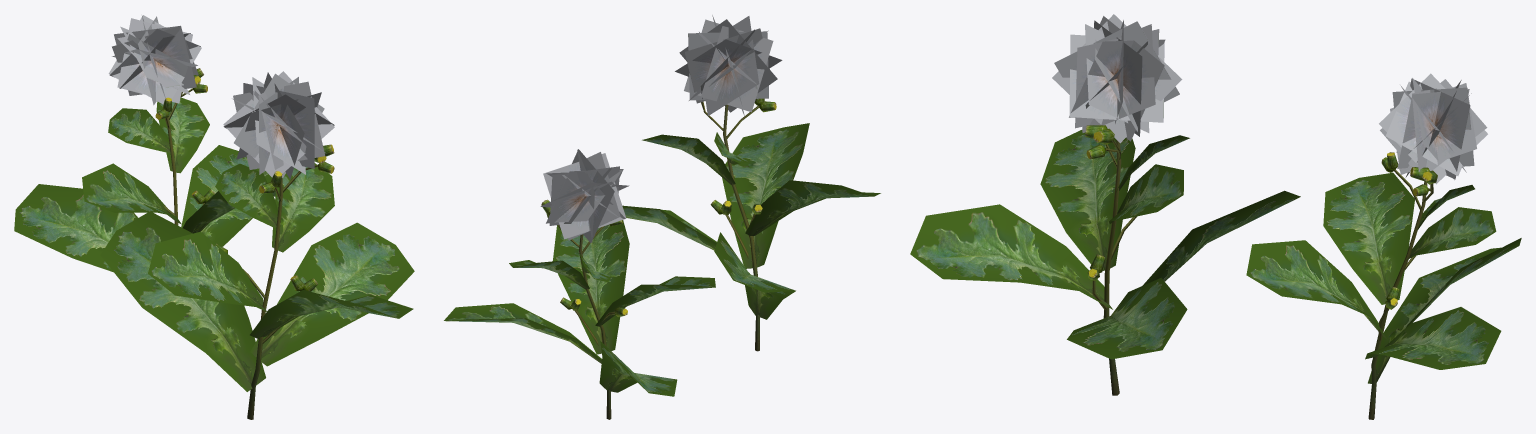
File: Groundsel.FBX
3 views of the same model, side by side, from view 1: azimuth 30°, elevation 25°; view 2: azimuth 150°, elevation 25°; view 3: azimuth 270°, elevation 25° (orthographic). The views are drawn at different scales.
Visible parts, largest first — view 1: Groundsel_0, Groundsel_1; view 2: Groundsel_0, Groundsel_1; view 3: Groundsel_0, Groundsel_1.
Part boxes in pixels (bbox=[...]): Groundsel_0: bbox=[100, 71, 414, 419]; Groundsel_1: bbox=[14, 15, 275, 272]; Groundsel_0: bbox=[622, 15, 880, 351]; Groundsel_1: bbox=[444, 149, 715, 419]; Groundsel_0: bbox=[910, 14, 1300, 395]; Groundsel_1: bbox=[1246, 73, 1521, 419].
Bounding box in the file's own units: 45.24 × 51.5 × 72.9.
